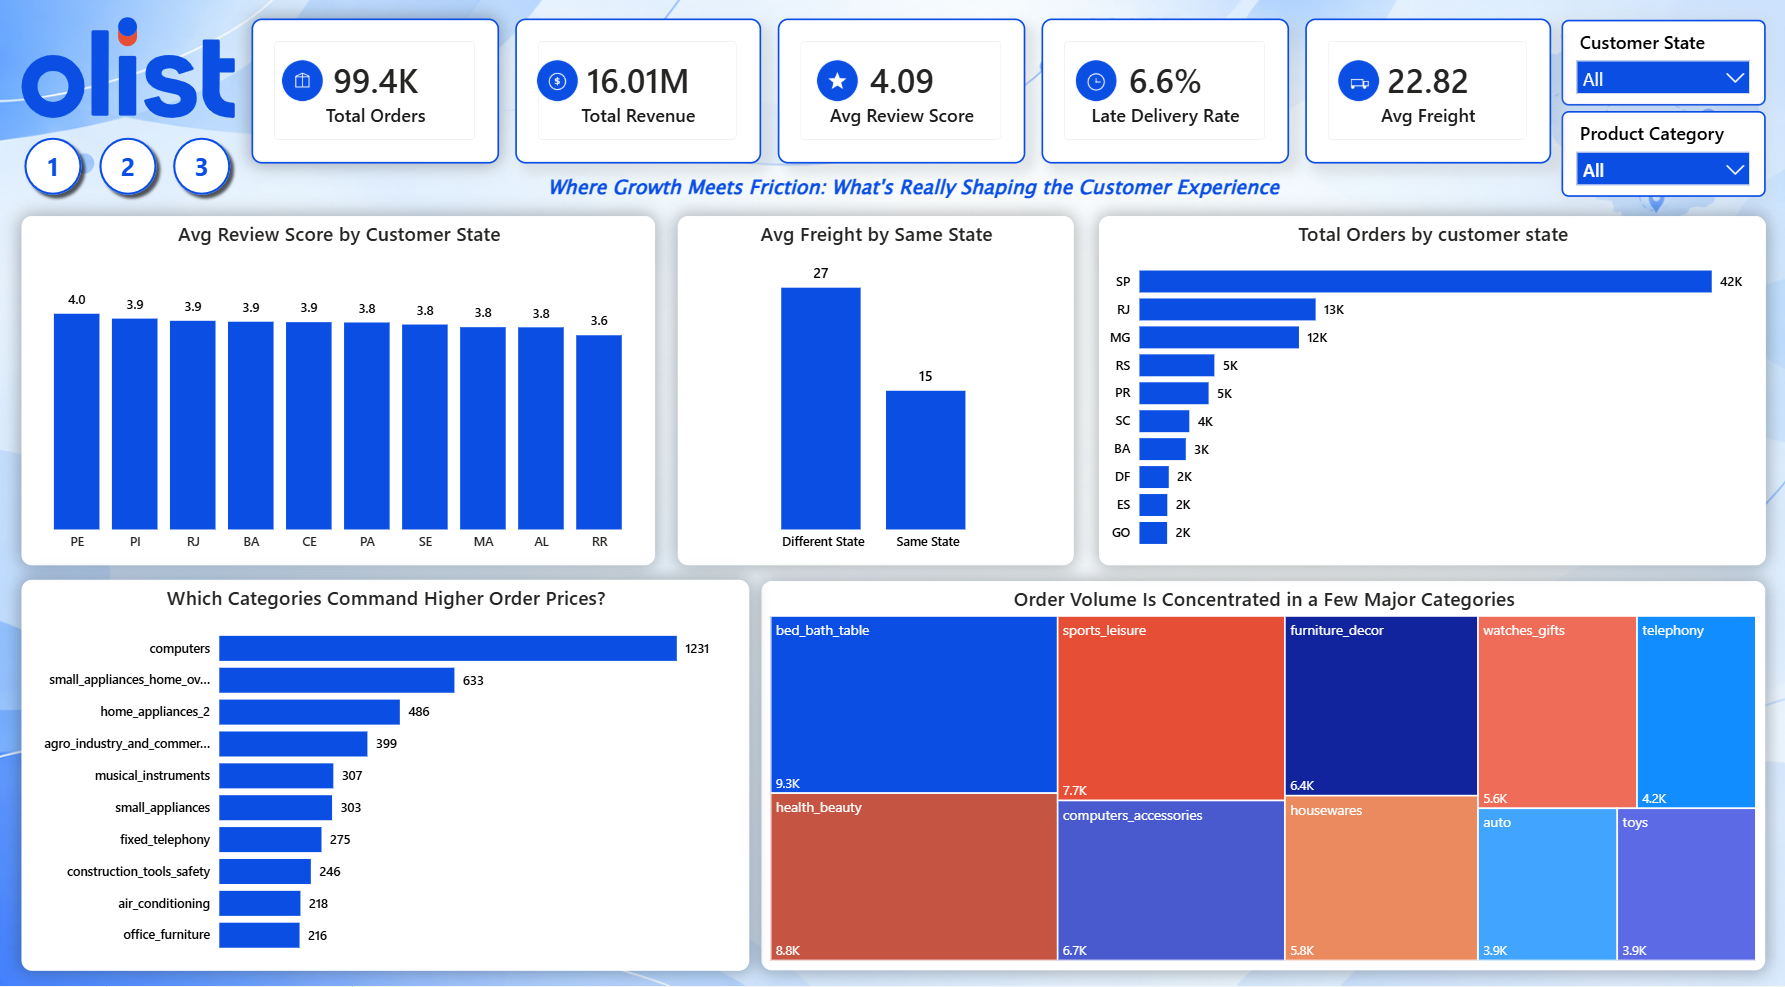

The dashboard page shown, as its layout file describes it:
{"tool":"powerbi","page":{"name":"Geography & Category Performance","canvas":[1715,950],"ordinal":1},"visuals":[{"type":"cardVisual","fields":{"Data":["Measures Table.Total Orders"]},"box":[242.2,21.6,237.5,139.1],"z":0,"group":"g2"},{"type":"columnChart","title":"Avg Review Score by Customer State","fields":{"Category":["olist_cleaned_data.customer_state"],"Y":["Measures Table.Avg Review Score"]},"box":[21.7,211.7,608.3,335],"z":0},{"type":"cardVisual","fields":{"Data":["Measures Table.Total Revenue"]},"box":[495.3,21.6,235.9,139.1],"z":1000,"group":"g3"},{"type":"columnChart","fields":{"Category":["olist_cleaned_data.Same State"],"Y":["Measures Table.Avg Freight"]},"box":[651.7,211.7,380,335],"z":1000},{"type":"cardVisual","fields":{"Data":["Measures Table.Avg Review Score"]},"box":[746.9,21.6,237.5,139.1],"z":2000,"group":"g4"},{"type":"treemap","title":"Order Volume Is Concentrated in a Few Major Categories","fields":{"Group":["olist_cleaned_data.product_category_name_english"],"Values":["Measures Table.Total Orders"]},"box":[731.7,561.7,963.3,373.3],"z":2000},{"type":"clusteredBarChart","title":"Which Categories Command Higher Order Prices?","fields":{"Y":["Avg(olist_cleaned_data.order_price)"],"Category":["olist_cleaned_data.product_category_name_english"]},"box":[21.7,560,698.3,375],"z":3000},{"type":"clusteredBarChart","title":"Total Orders by customer state","fields":{"Y":["Measures Table.Total Orders"],"Category":["olist_cleaned_data.customer_state"]},"box":[1055,211.7,640,335],"z":4000},{"type":"cardVisual","fields":{"Data":["Measures Table.Late Delivery Rate"]},"box":[1000,21.6,237.5,139.1],"z":6000,"group":"g5"},{"type":"cardVisual","fields":{"Data":["Measures Table.Avg Freight"]},"box":[1253.1,21.6,235.9,139.1],"z":7000,"group":"g6"},{"type":"slicer","fields":{"Values":["olist_cleaned_data.customer_state"]},"box":[1499.5,22.6,195.8,82.8],"z":10000},{"type":"slicer","fields":{"Values":["olist_cleaned_data.product_category_name_english"]},"box":[1499.5,110.1,195.8,82.8],"z":12000},{"type":"shape","box":[17.2,128.5,70,70],"z":13000,"group":"g1"},{"type":"shape","box":[88.8,128.5,70,70],"z":14000,"group":"g1"},{"type":"textbox","box":[521.9,164.1,820.3,40.6],"z":14000},{"type":"image","box":[21.9,10.9,204.7,115.6],"z":14001},{"type":"image","box":[513.3,58.4,45,45],"z":14001,"group":"g3"},{"type":"image","box":[268.3,58.4,45,45],"z":14002,"group":"g2"},{"type":"group","id":"g1","title":"Group 1","box":[17.2,128.5,213.3,70],"z":14002},{"type":"group","id":"g2","title":"Group 2","box":[242.2,21.6,237.5,139.1],"z":14003},{"type":"image","box":[781.7,58.4,45,45],"z":14003,"group":"g4"},{"type":"group","id":"g3","title":"Group 3","box":[495.3,21.6,235.9,139.1],"z":14004},{"type":"image","box":[1030,58.4,45,45],"z":14004,"group":"g5"},{"type":"group","id":"g4","title":"Group 4","box":[746.9,21.6,237.5,139.1],"z":14005},{"type":"image","box":[1281.6,58.4,45,45],"z":14005,"group":"g6"},{"type":"group","id":"g5","title":"Group 5","box":[1000,21.6,237.5,139.1],"z":14006},{"type":"group","id":"g6","title":"Group 6","box":[1253.1,21.6,235.9,139.1],"z":14007},{"type":"shape","box":[160.5,128.5,70,70],"z":15000,"group":"g1"}]}

Visuals, with their boxes in screenshot pixels (x1, y1, x2, y2), scaled from the page's 1715x950 canvas onto the 1785x987 screenshot:
cardVisual - Measures Table.Total Orders: Rect(252, 22, 499, 167)
"Avg Review Score by Customer State" columnChart: Rect(23, 220, 656, 568)
cardVisual - Measures Table.Total Revenue: Rect(516, 22, 761, 167)
columnChart - olist_cleaned_data.Same State x Measures Table.Avg Freight: Rect(678, 220, 1074, 568)
cardVisual - Measures Table.Avg Review Score: Rect(777, 22, 1025, 167)
"Order Volume Is Concentrated in a Few Major Categories" treemap: Rect(762, 584, 1764, 971)
"Which Categories Command Higher Order Prices?" clusteredBarChart: Rect(23, 582, 749, 971)
"Total Orders by customer state" clusteredBarChart: Rect(1098, 220, 1764, 568)
cardVisual - Measures Table.Late Delivery Rate: Rect(1041, 22, 1288, 167)
cardVisual - Measures Table.Avg Freight: Rect(1304, 22, 1550, 167)
slicer - olist_cleaned_data.customer_state: Rect(1561, 23, 1764, 110)
slicer - olist_cleaned_data.product_category_name_english: Rect(1561, 114, 1764, 200)
shape: Rect(18, 134, 91, 206)
shape: Rect(92, 134, 165, 206)
textbox: Rect(543, 170, 1397, 213)
image: Rect(23, 11, 236, 131)
image: Rect(534, 61, 581, 107)
image: Rect(279, 61, 326, 107)
"Group 1" group: Rect(18, 134, 240, 206)
"Group 2" group: Rect(252, 22, 499, 167)
image: Rect(814, 61, 860, 107)
"Group 3" group: Rect(516, 22, 761, 167)
image: Rect(1072, 61, 1119, 107)
"Group 4" group: Rect(777, 22, 1025, 167)
image: Rect(1334, 61, 1381, 107)
"Group 5" group: Rect(1041, 22, 1288, 167)
"Group 6" group: Rect(1304, 22, 1550, 167)
shape: Rect(167, 134, 240, 206)
